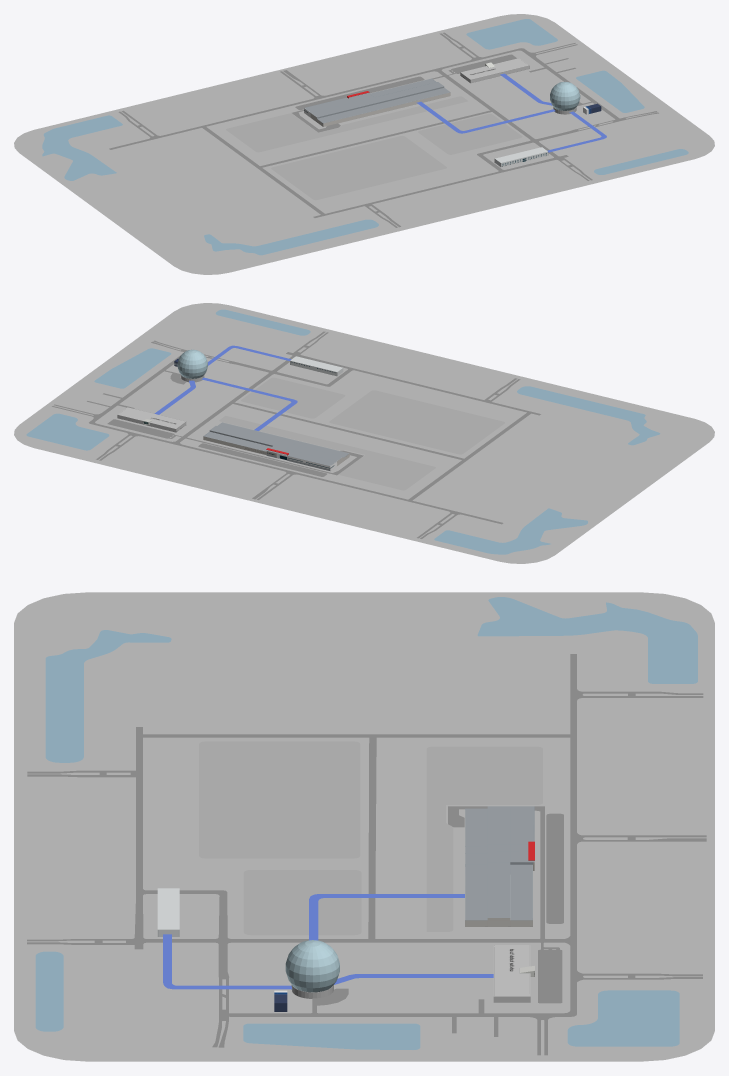
File: park.gltf
3 views of the same model, one above another, from view 1: azimuth 30°, elevation 25°; view 2: azimuth 150°, elevation 25°; view 3: azimuth 270°, elevation 25° (orthographic). The views are drawn at different scales.
Visible parts, largest first — view 1: Plane.009, Plane.010, Plane.002, Plane.011, Cube, Plane.007, Plane.012, Plane.006, Plane.003, Plane.004, Cube.001, Plane.005 (+4 smaller); view 2: Plane.009, Plane.002, Plane.010, Plane.011, Cube, Plane.007, Plane.012, Plane.006, Plane.003, Plane.004, Cube.001, Plane.005 (+5 smaller); view 3: Plane.009, Plane.010, Plane.002, Plane.011, Cube, Plane.007, Plane.012, Plane.006, Plane.003, Plane.004, Sphere, Plane.005 (+6 smaller).
Boxes of the visible parts, left/top/right/bottom form: Plane.009: left=14, top=14, right=714, bottom=274; Plane.010: left=271, top=135, right=446, bottom=200; Plane.002: left=109, top=32, right=658, bottom=227; Plane.011: left=226, top=96, right=468, bottom=152; Cube: left=304, top=78, right=450, bottom=126; Plane.007: left=42, top=115, right=122, bottom=180; Plane.012: left=418, top=114, right=522, bottom=154; Plane.006: left=204, top=219, right=378, bottom=255; Plane.003: left=466, top=19, right=557, bottom=49; Plane.004: left=576, top=70, right=644, bottom=112; Cube.001: left=460, top=58, right=529, bottom=83; Plane.005: left=594, top=149, right=688, bottom=174; Plane.009: left=14, top=303, right=714, bottom=563; Plane.002: left=52, top=331, right=540, bottom=538; Plane.010: left=329, top=390, right=504, bottom=454; Plane.011: left=219, top=415, right=435, bottom=490; Cube: left=203, top=422, right=349, bottom=470; Plane.007: left=434, top=508, right=587, bottom=554; Plane.012: left=241, top=377, right=345, bottom=418; Plane.006: left=517, top=386, right=660, bottom=445; Plane.003: left=26, top=413, right=109, bottom=450; Plane.004: left=94, top=348, right=171, bottom=388; Cube.001: left=117, top=407, right=186, bottom=432; Plane.005: left=215, top=309, right=310, bottom=335; Plane.009: left=14, top=592, right=714, bottom=1061; Plane.010: left=199, top=741, right=360, bottom=858; Plane.002: left=27, top=654, right=706, bottom=1055; Plane.011: left=426, top=746, right=542, bottom=931; Cube: left=465, top=806, right=534, bottom=926; Plane.007: left=477, top=597, right=697, bottom=683; Plane.012: left=243, top=870, right=361, bottom=935; Plane.006: left=45, top=630, right=171, bottom=762; Plane.003: left=567, top=990, right=679, bottom=1046; Plane.004: left=243, top=1023, right=420, bottom=1049; Sphere: left=285, top=940, right=339, bottom=992; Plane.005: left=35, top=951, right=63, bottom=1031.
Size of the model in its own units: 4.95 by 0.2437 by 3.12.
13 materials, 6 textured.
